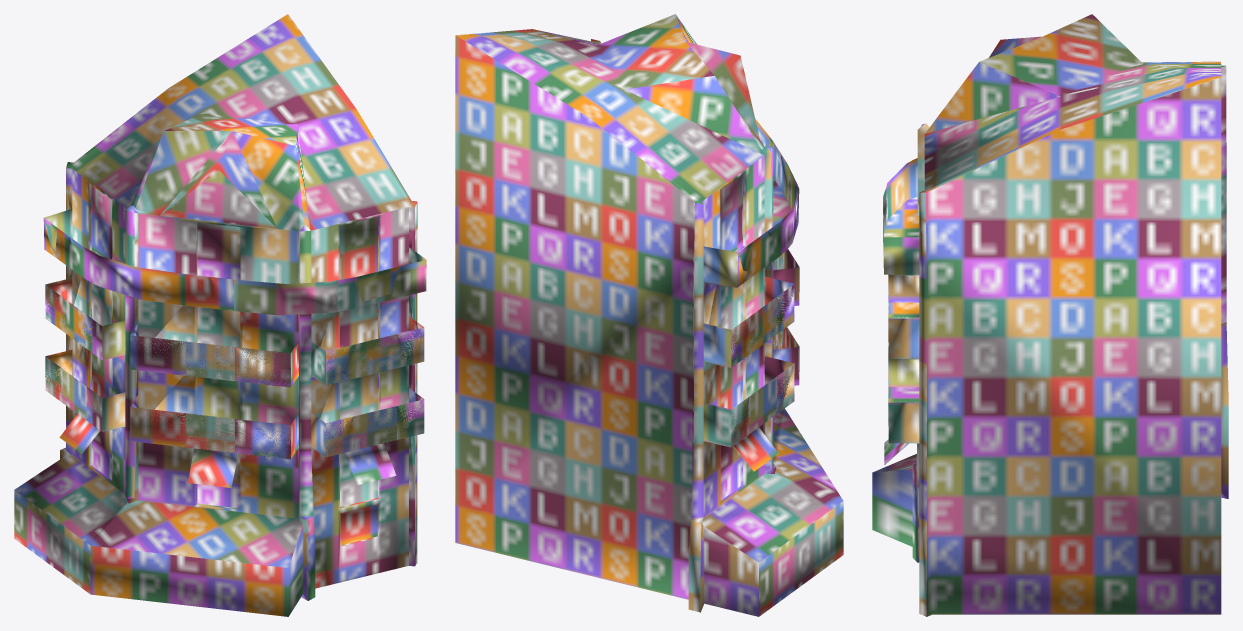
File: corner_buildings_03.obj
The picture shows the model from 3 angles, left to right: view 1: azimuth 30°, elevation 25°; view 2: azimuth 150°, elevation 25°; view 3: azimuth 270°, elevation 25°; orthographic projection. The views are drawn at different scales.
Visible parts, largest first — view 1: Cube4; view 2: Cube4; view 3: Cube4.
Part boxes in pixels (x1=…): Cube4: x1=14, y1=14, x2=426, y2=616; Cube4: x1=455, y1=14, x2=843, y2=616; Cube4: x1=872, y1=14, x2=1228, y2=616.
Size of the model in its own units: 25.35 by 40.47 by 24.04.
1 material, 1 textured.
